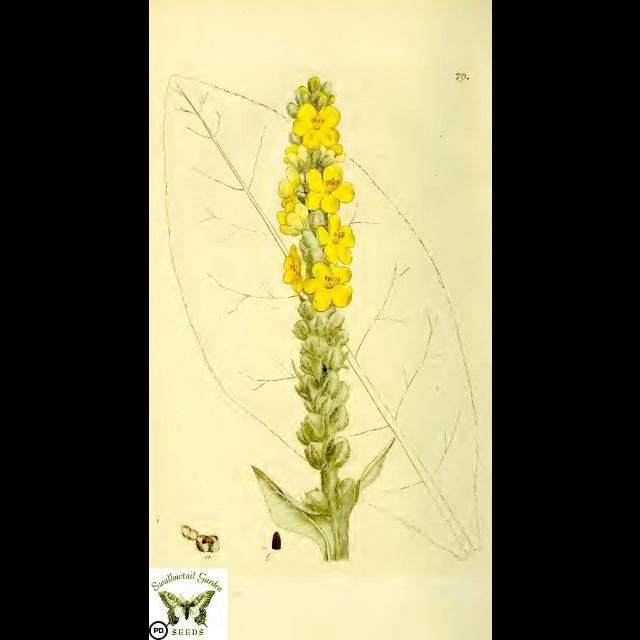Flower: (272, 100, 354, 312)
